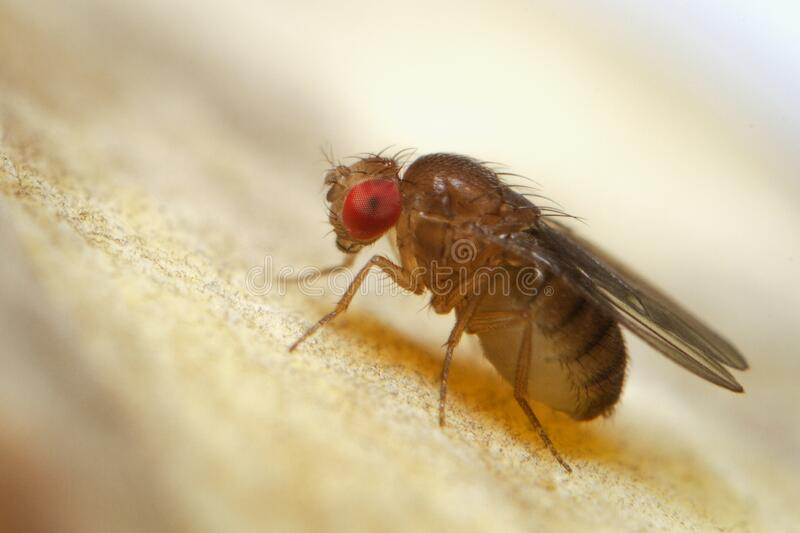Fruit fly: (266, 111, 728, 445)
